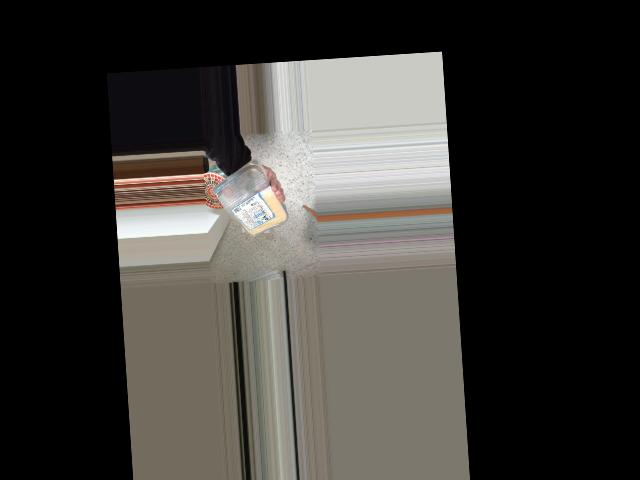cheese: (208, 175, 284, 241)
